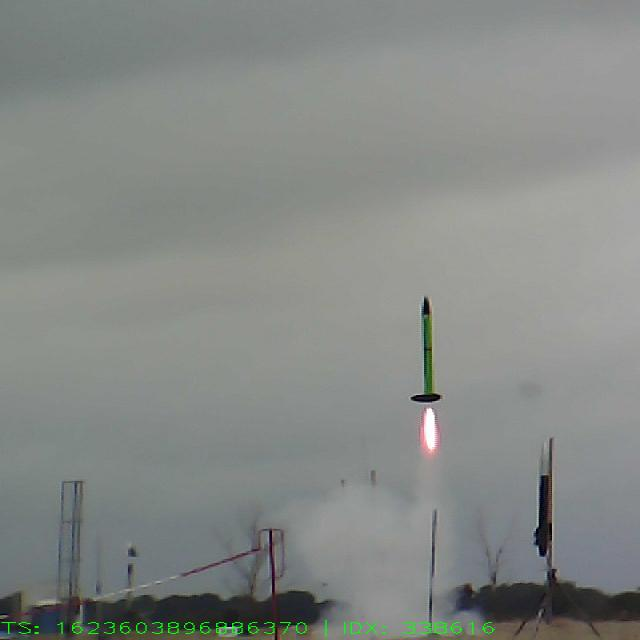Rocket: (409, 294, 444, 404), (532, 438, 552, 558)
